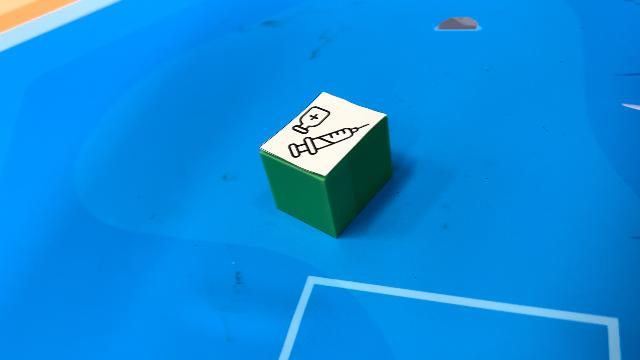syringe: (259, 92, 393, 238)
